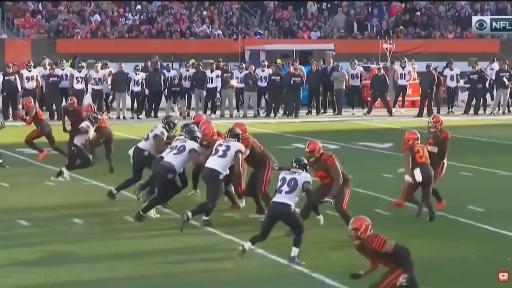Helmet: (349, 216, 372, 240), (182, 125, 201, 143), (306, 140, 323, 158), (162, 116, 177, 133), (201, 126, 216, 143), (292, 158, 308, 172), (429, 115, 443, 130), (227, 128, 241, 142), (404, 131, 419, 144), (232, 123, 247, 136), (180, 123, 197, 134), (198, 119, 214, 130), (87, 112, 99, 126), (192, 114, 204, 127), (84, 103, 96, 114), (23, 97, 34, 109), (67, 97, 77, 108), (26, 61, 33, 70), (102, 60, 109, 69), (76, 62, 83, 71), (400, 58, 407, 67), (350, 60, 357, 68), (184, 62, 191, 70), (134, 65, 141, 72), (224, 63, 231, 70), (239, 63, 245, 70), (261, 60, 267, 67), (166, 64, 171, 71)
Jersey: (272, 169, 311, 208), (205, 140, 244, 176), (355, 234, 396, 268), (162, 137, 200, 173), (310, 152, 350, 185), (243, 135, 276, 168), (137, 124, 167, 155), (428, 130, 450, 166), (403, 144, 430, 170), (26, 108, 50, 130), (74, 121, 94, 146), (63, 106, 84, 129), (22, 69, 38, 89), (129, 72, 145, 91), (347, 67, 363, 85), (444, 68, 459, 87), (72, 70, 87, 89), (180, 69, 195, 88), (56, 68, 71, 87), (396, 66, 411, 85), (256, 69, 271, 87), (37, 66, 49, 88), (206, 70, 221, 87), (89, 71, 103, 89), (103, 68, 113, 92), (234, 71, 248, 87), (486, 63, 499, 79), (164, 70, 177, 82), (216, 131, 226, 139)
Player: (238, 158, 313, 264), (181, 128, 244, 231), (135, 126, 202, 221), (108, 116, 177, 199), (350, 216, 418, 287), (300, 141, 351, 225), (233, 123, 276, 216), (394, 131, 435, 221), (52, 112, 99, 180), (16, 97, 66, 160), (427, 115, 450, 183), (90, 115, 113, 173), (136, 154, 163, 202), (62, 97, 84, 149), (393, 58, 412, 113), (347, 60, 366, 114), (203, 63, 221, 117), (443, 60, 460, 114), (255, 60, 271, 115), (129, 65, 145, 119), (180, 63, 195, 117), (70, 62, 88, 106), (22, 61, 41, 102), (224, 166, 242, 209), (88, 63, 103, 113), (234, 63, 248, 116), (102, 61, 114, 118), (56, 60, 71, 101), (37, 57, 49, 107), (198, 119, 225, 139), (164, 64, 178, 102), (192, 113, 205, 127), (198, 119, 213, 130), (0, 154, 8, 167)
